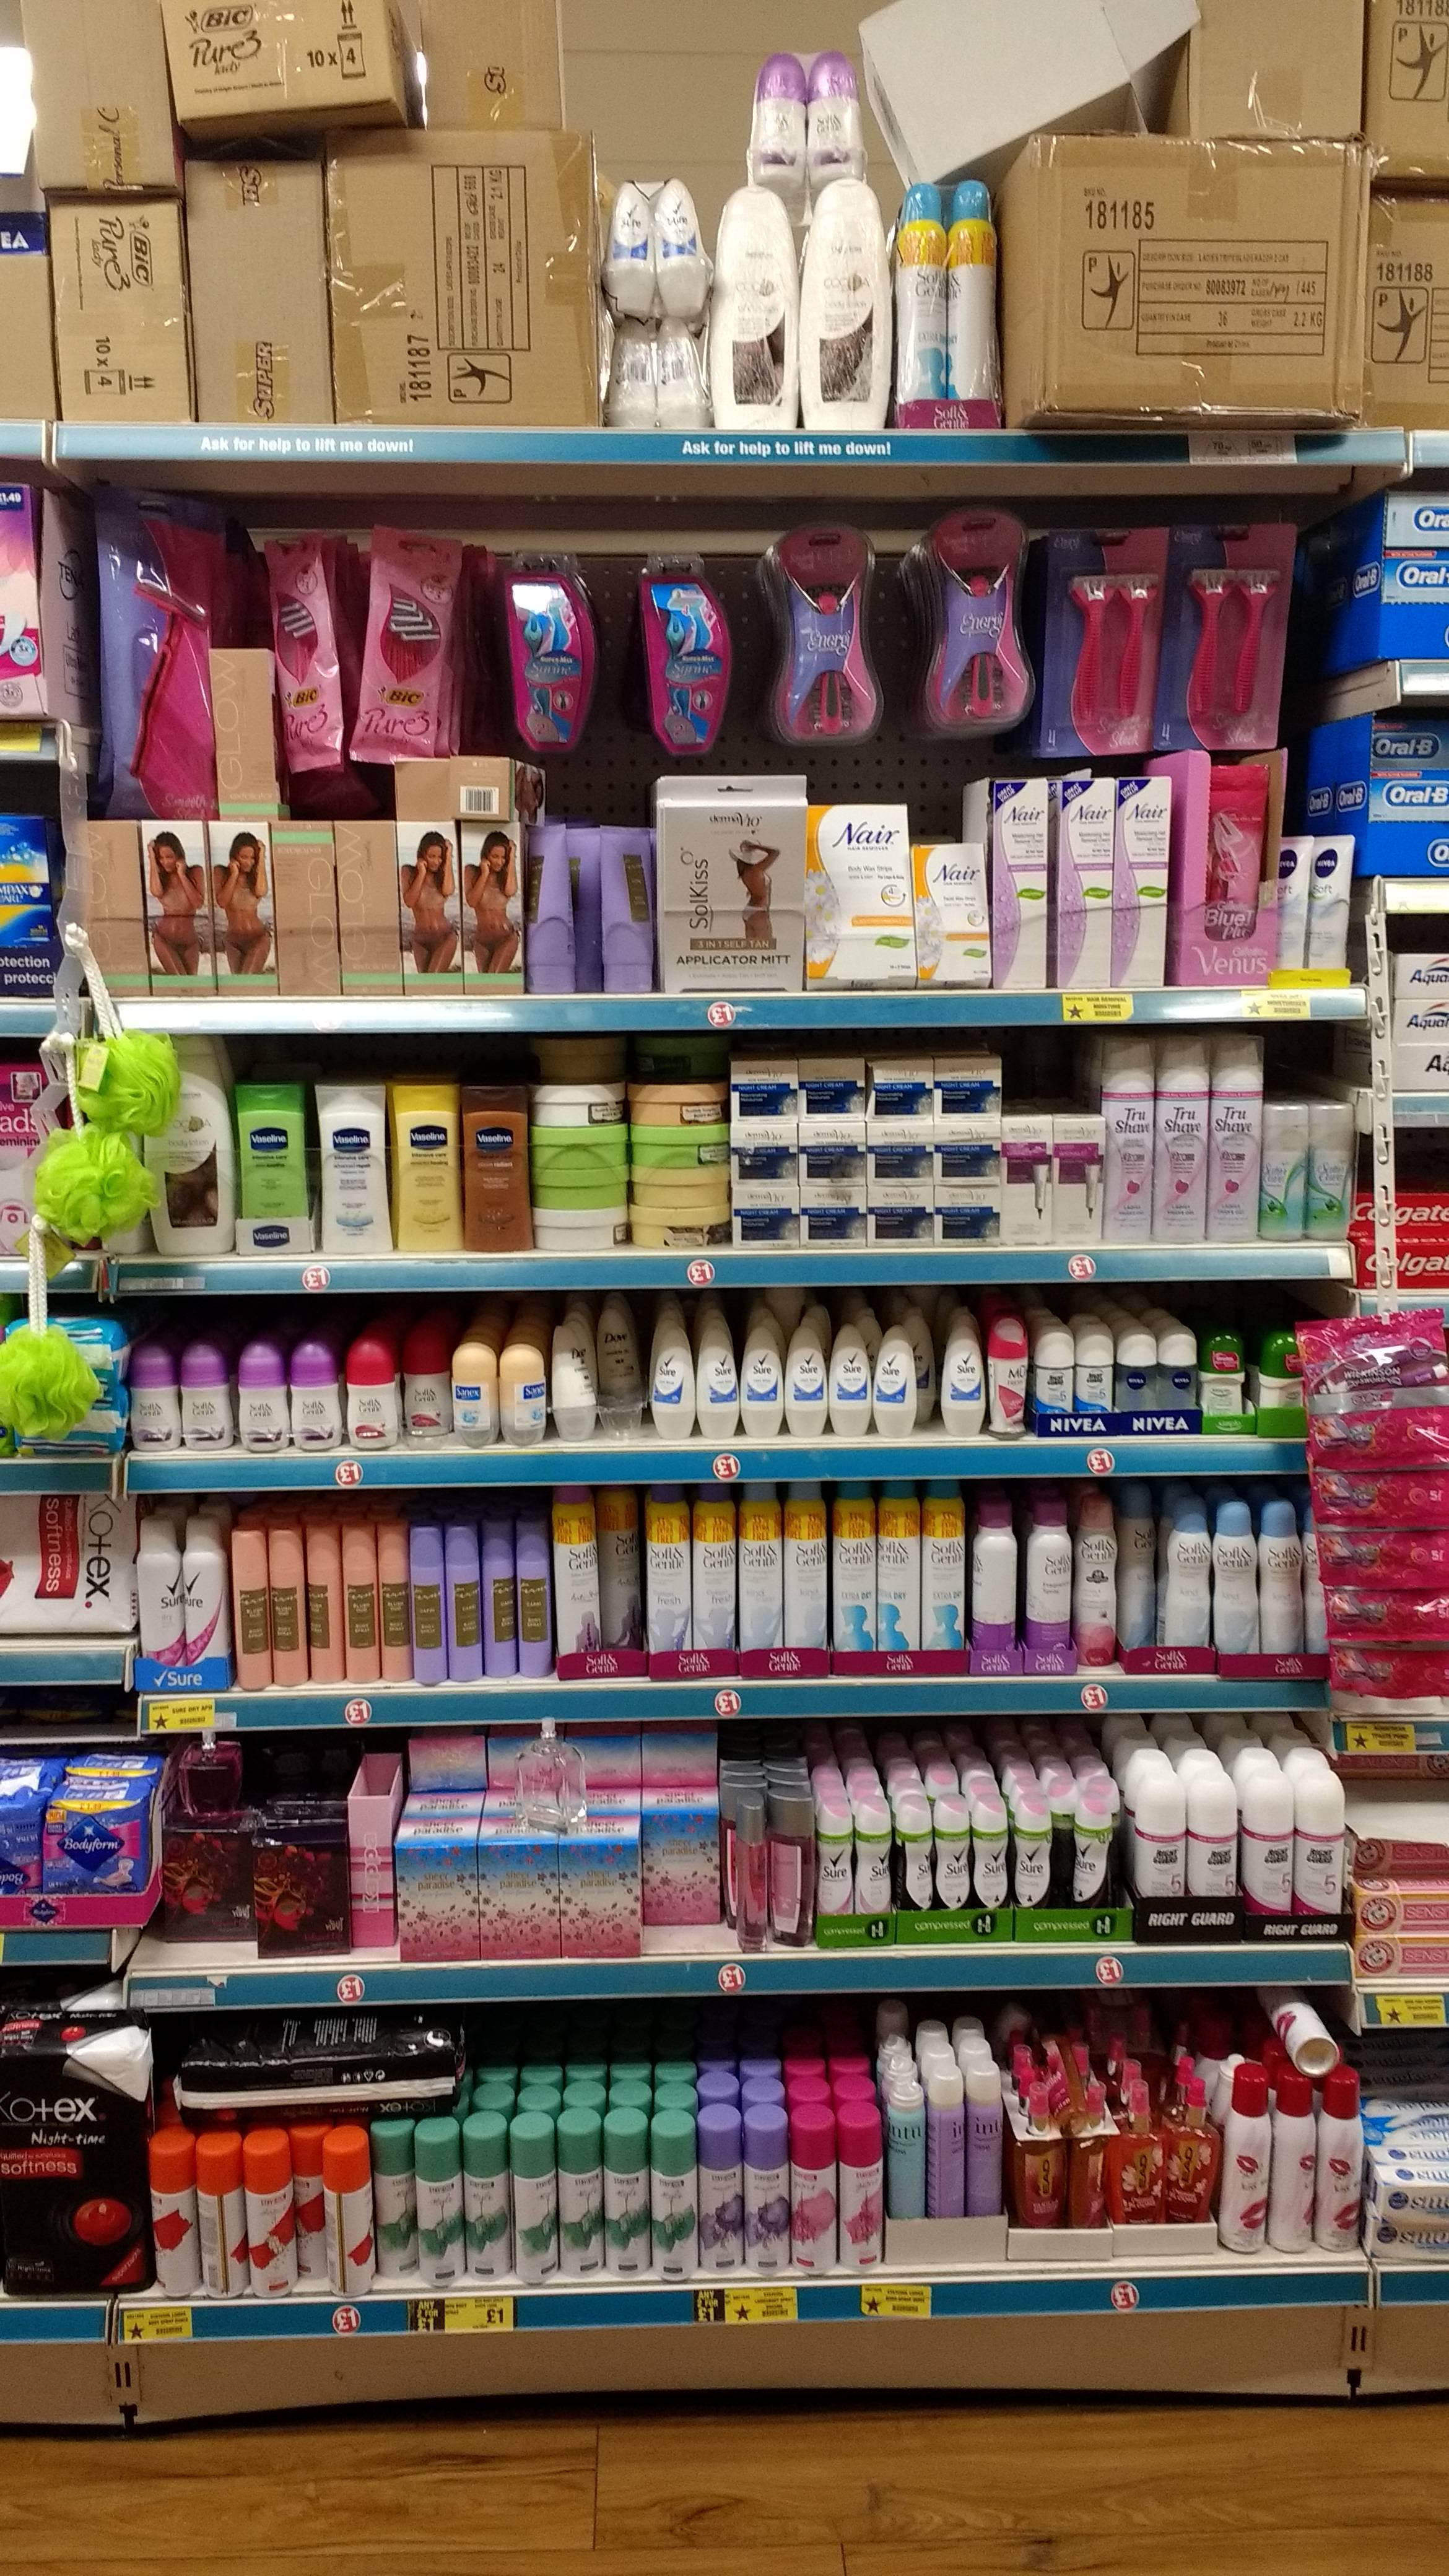misalignment: (379, 750, 545, 821), (349, 1755, 398, 1946), (518, 1721, 591, 1824), (727, 1801, 764, 1948), (1276, 1989, 1341, 2072)
